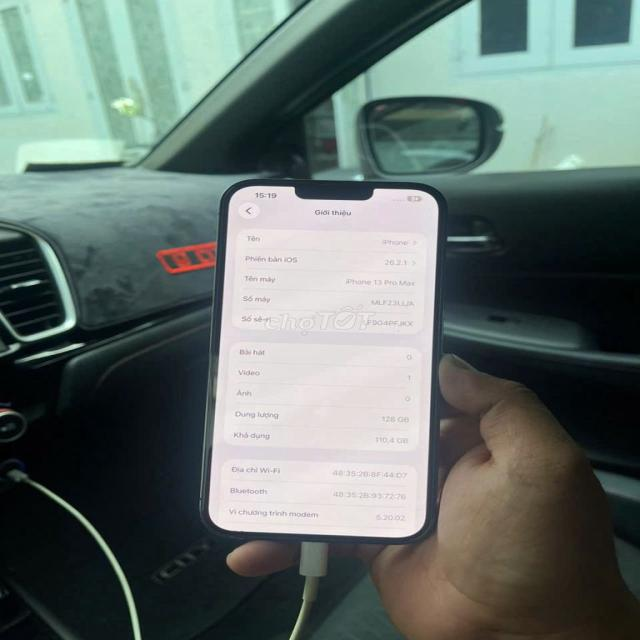gen_12_13: (192, 166, 457, 550)
